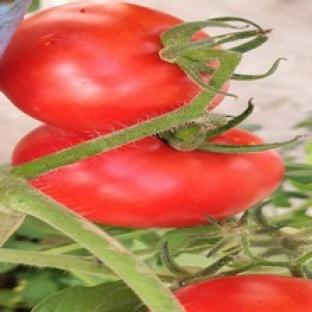Tomato: (0, 2, 200, 132), (31, 137, 284, 228), (176, 275, 311, 311)
